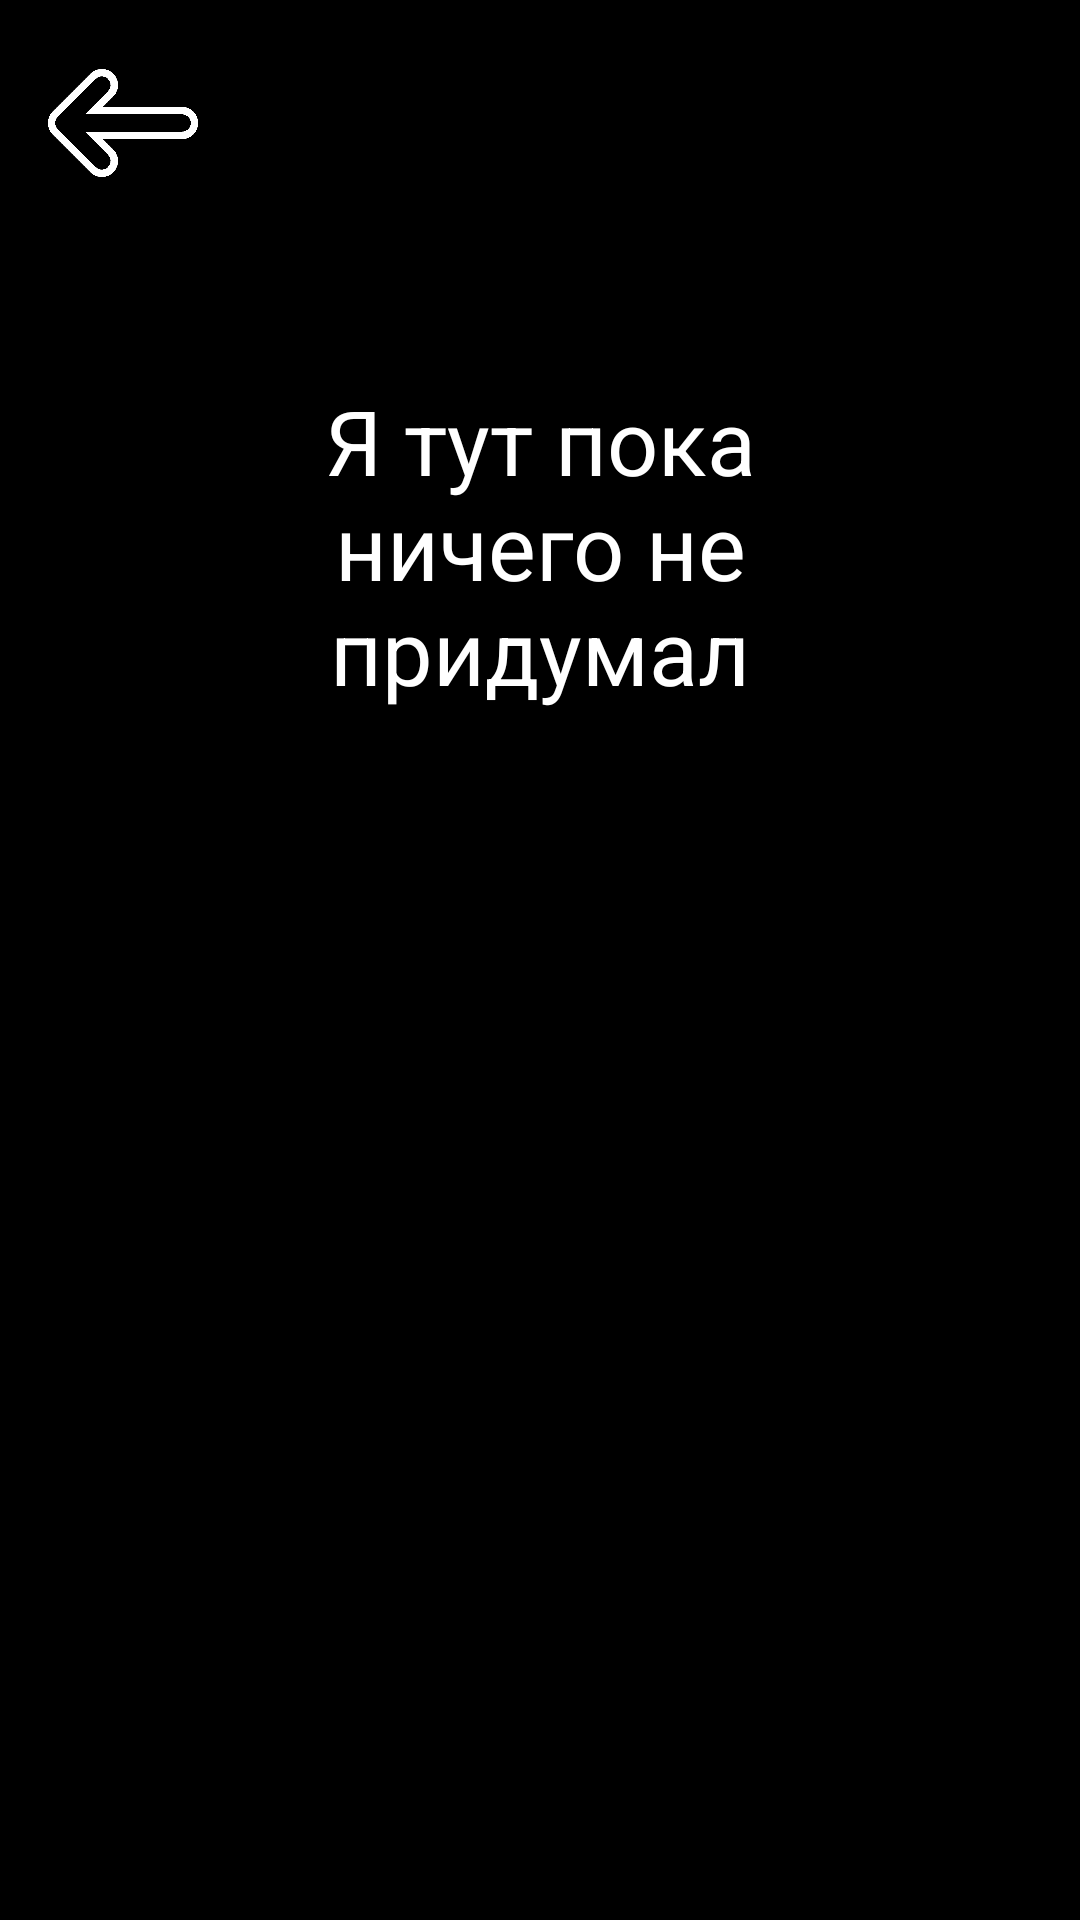

Icon bounding boxes for this 1080×1920 phone screenshot, format (x1, y1, x2, y2):
back: (48, 69, 198, 177)
